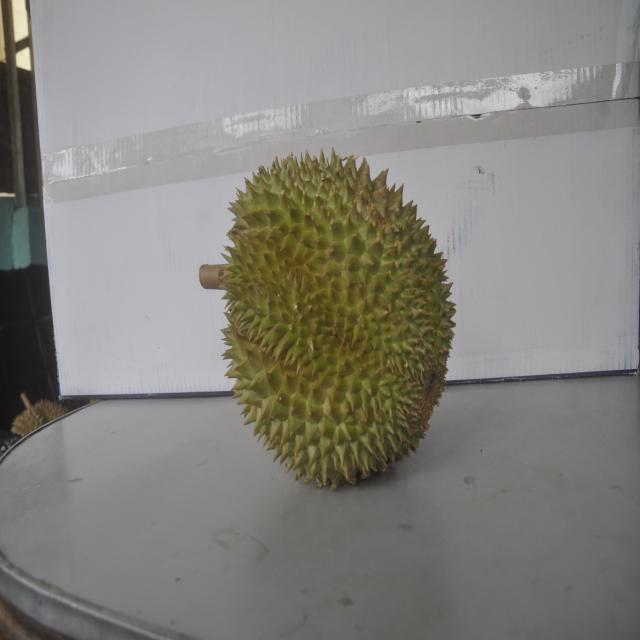mature: (214, 146, 446, 490), (11, 395, 71, 437)
